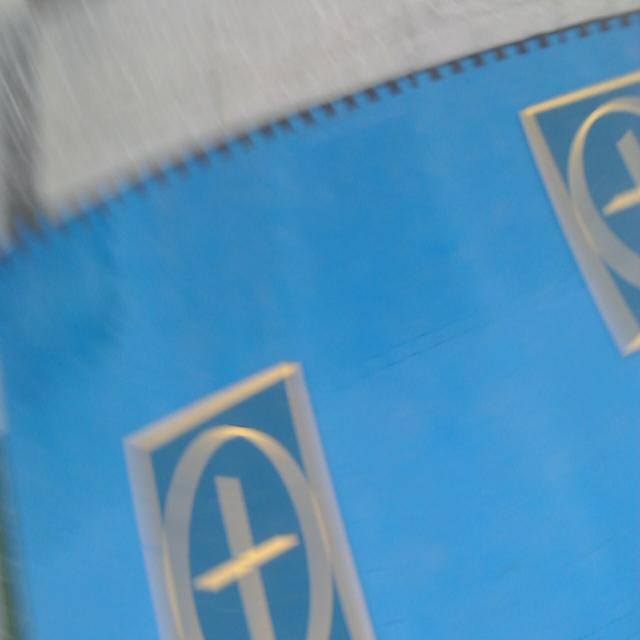base_pouso: (122, 356, 377, 639), (518, 71, 640, 358)
